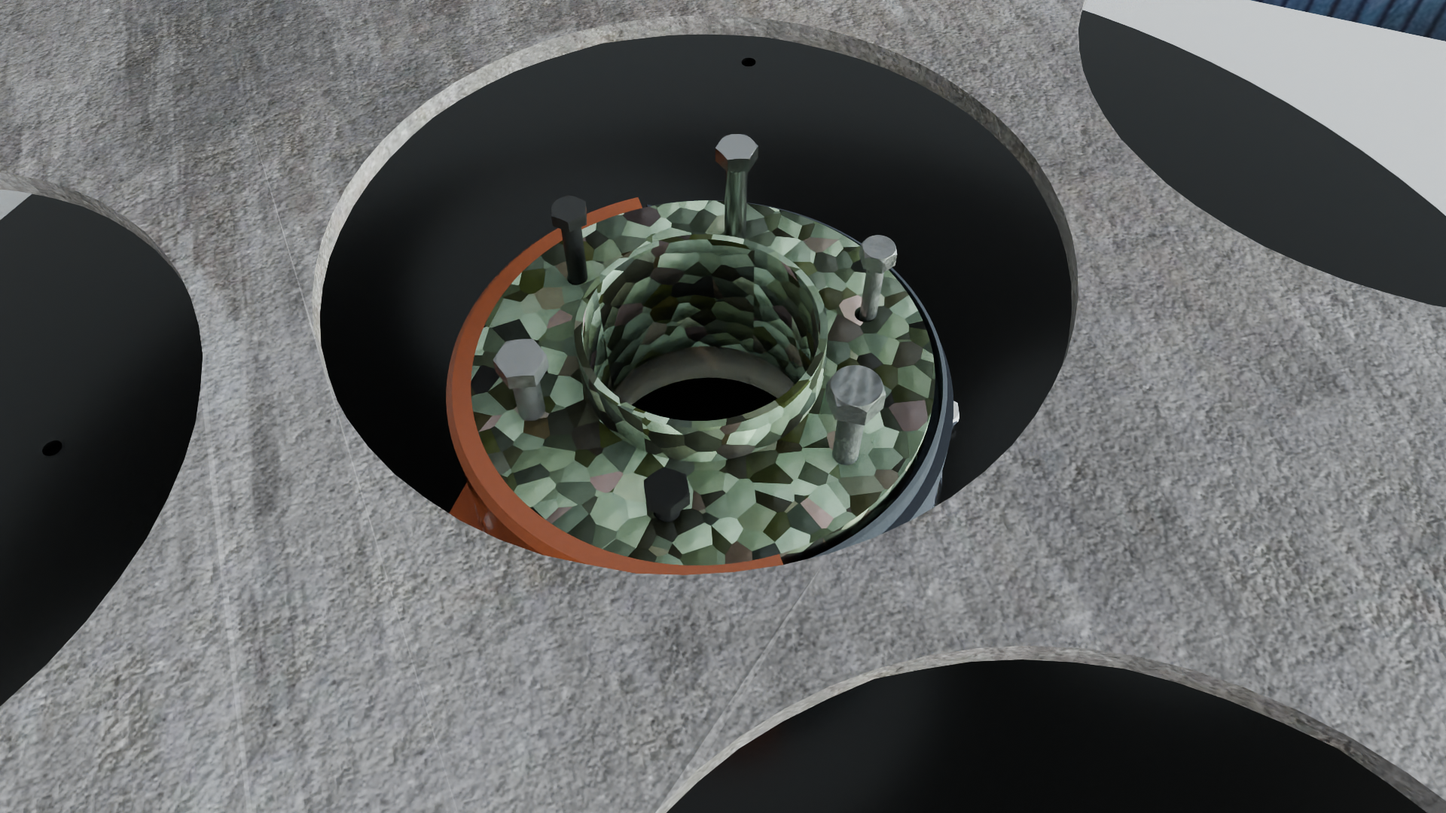bolt: (827, 365, 886, 413), (493, 339, 547, 378), (644, 467, 690, 509), (715, 134, 758, 160), (861, 235, 897, 263), (551, 195, 586, 223)
